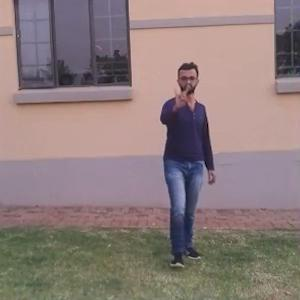takeoff-hand: (166, 80, 195, 117)
